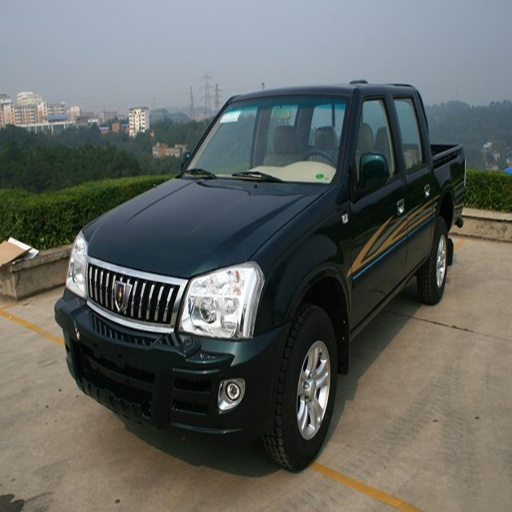front_bumper: (58, 255, 286, 435)
front_glass: (186, 94, 352, 182)
front_left_door: (354, 91, 407, 319)
